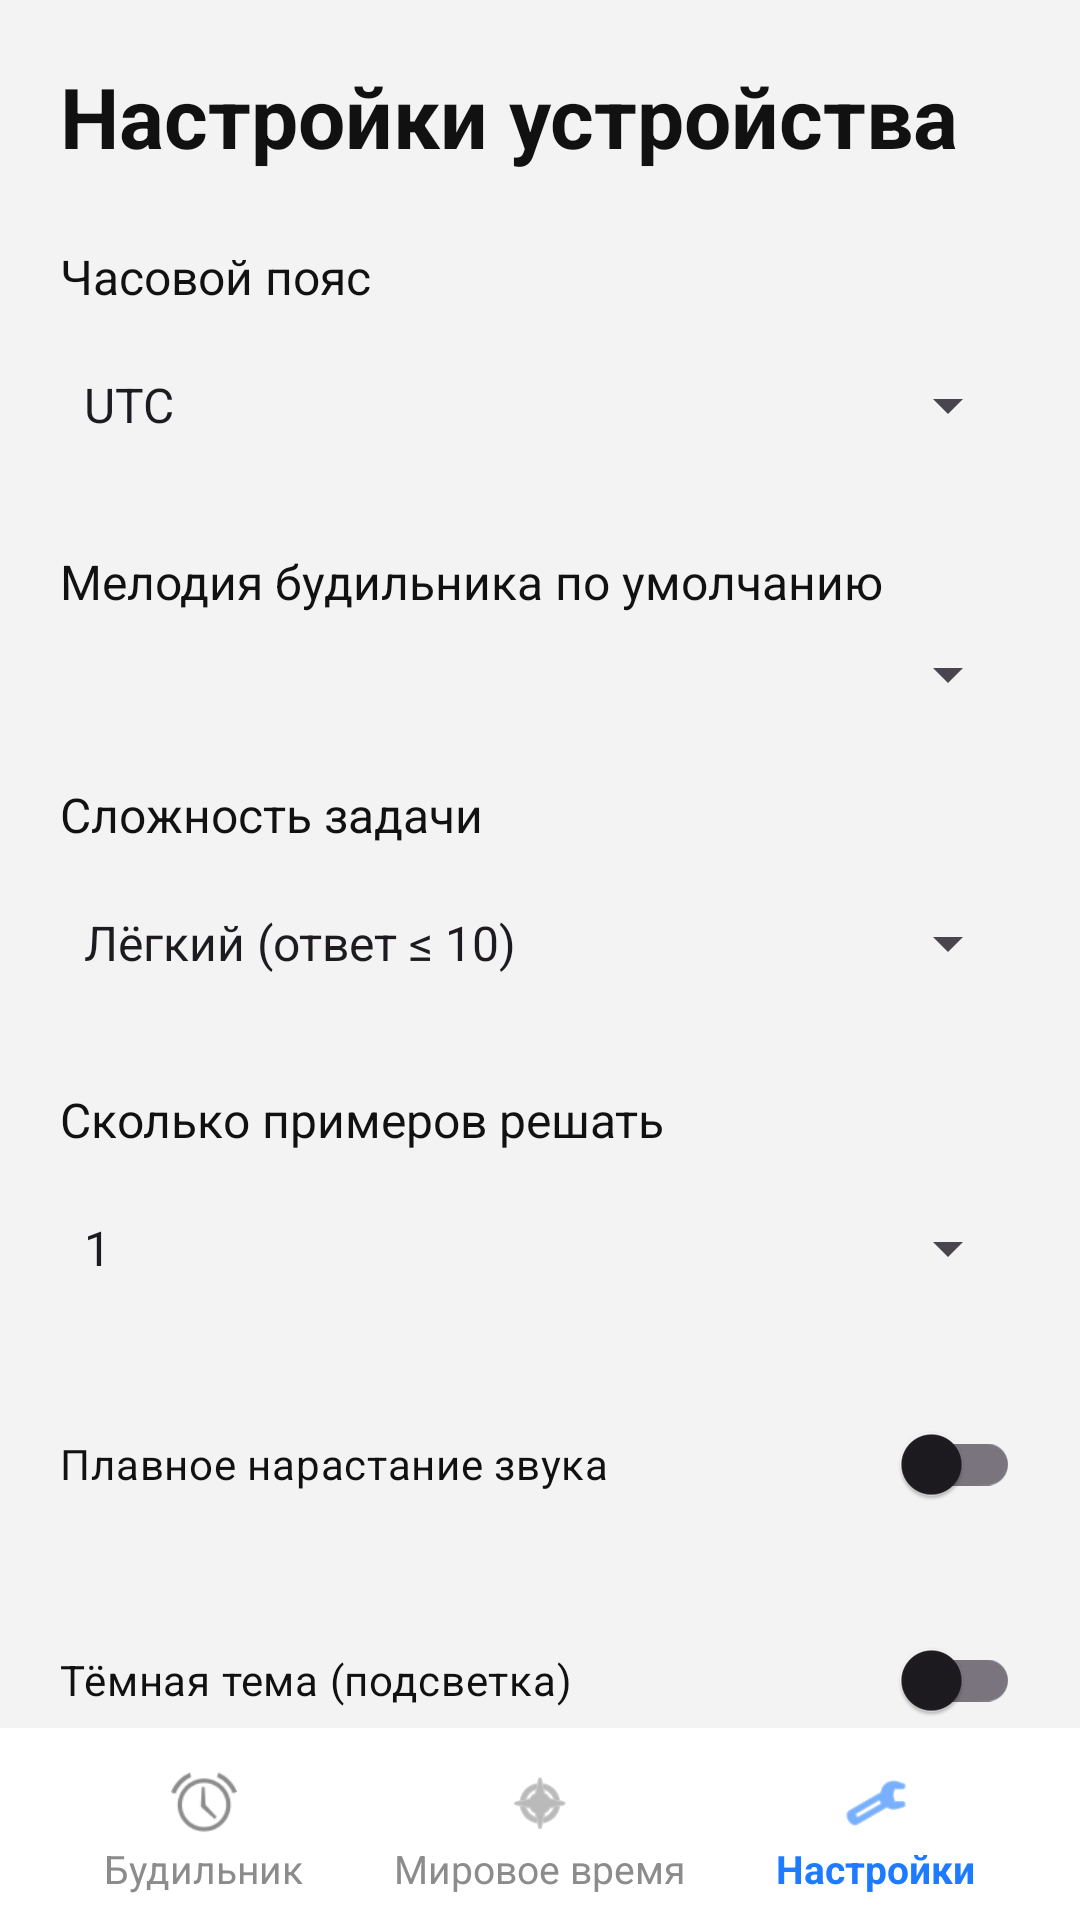

Icon click points for this 1080px x 1920px phone screenshot, format point (x, y):
compass: point (540, 1803)
manage: point (876, 1803)
